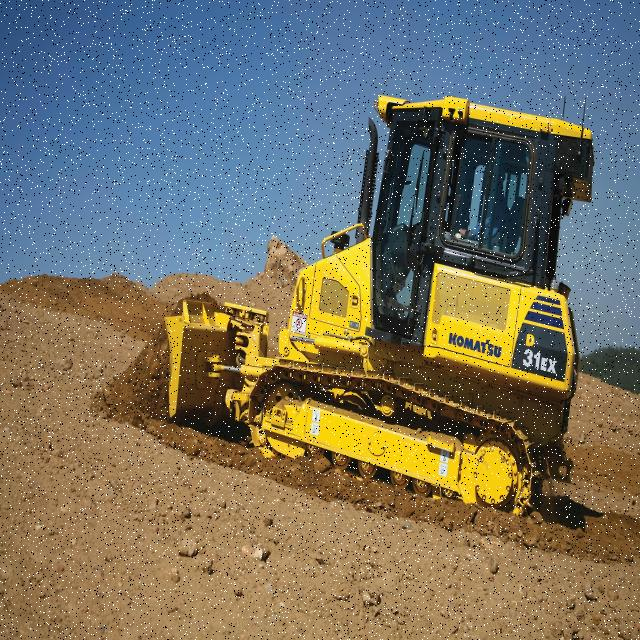Bulldozer: (177, 69, 617, 532)
